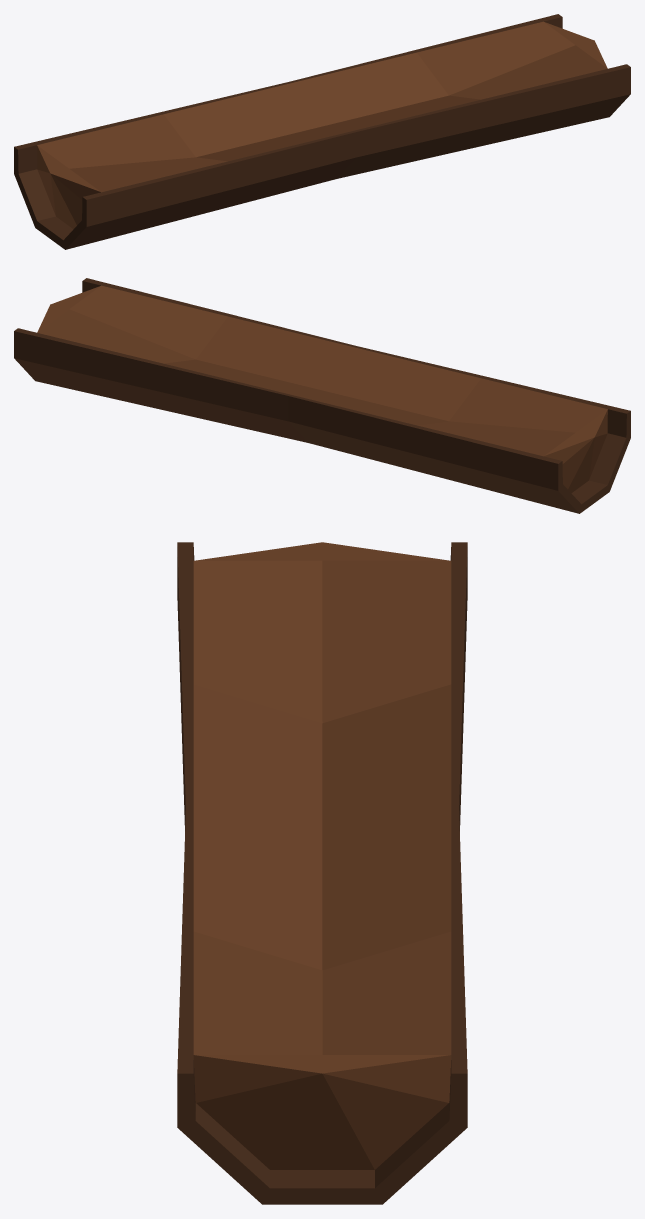
The model's file is Log_2_Dark_Brown.fbx.
3 renders of one model, top to bottom at view 1: azimuth 30°, elevation 25°; view 2: azimuth 150°, elevation 25°; view 3: azimuth 270°, elevation 25°, orthographic. The views are drawn at different scales.
Parts seen in each view (by area): view 1: Log_2_Dark_Brown; view 2: Log_2_Dark_Brown; view 3: Log_2_Dark_Brown.
Part boxes in pixels (left/top/right/bottom): Log_2_Dark_Brown: left=14, top=14, right=630, bottom=249; Log_2_Dark_Brown: left=14, top=278, right=630, bottom=513; Log_2_Dark_Brown: left=177, top=542, right=467, bottom=1204.
Bounding box in the file's own units: 200 × 23.02 × 46.18.
